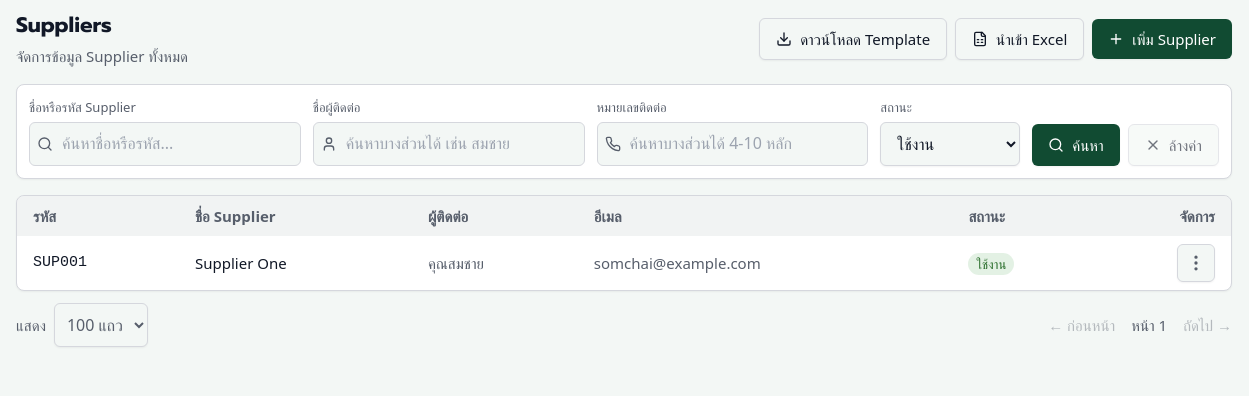
Test: Suppliers — contact and status filters (round 8-20D) › rejects a 3-digit fragment with a generic Thai message and sends nothing
Expected: the text "SUP001" is shown, [17, 236, 179, 290]
Type "555" into the field labelled "หมายเลขติดต่อ".
click(732, 144); type("555")  # box [597, 122, 868, 166]
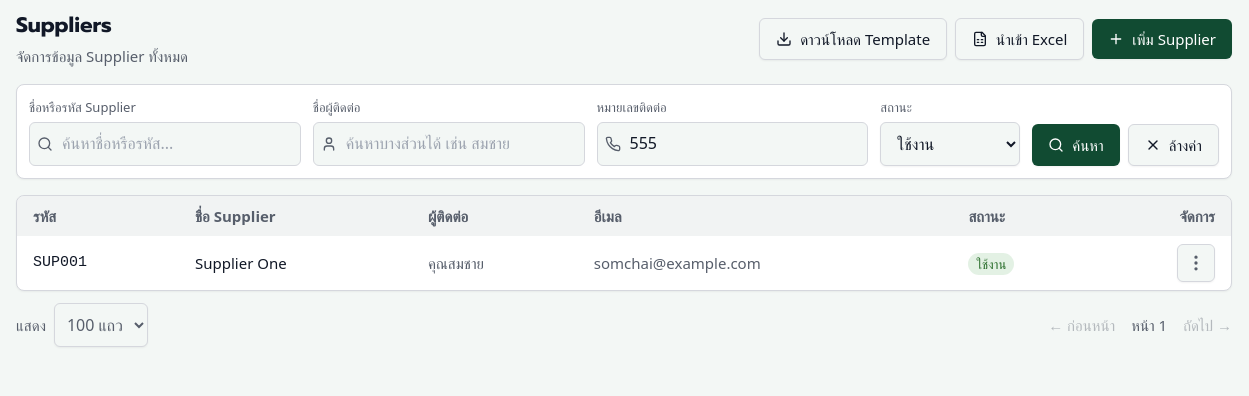
Click the button "ค้นหา".
click(1076, 145)  # box [1032, 124, 1120, 166]
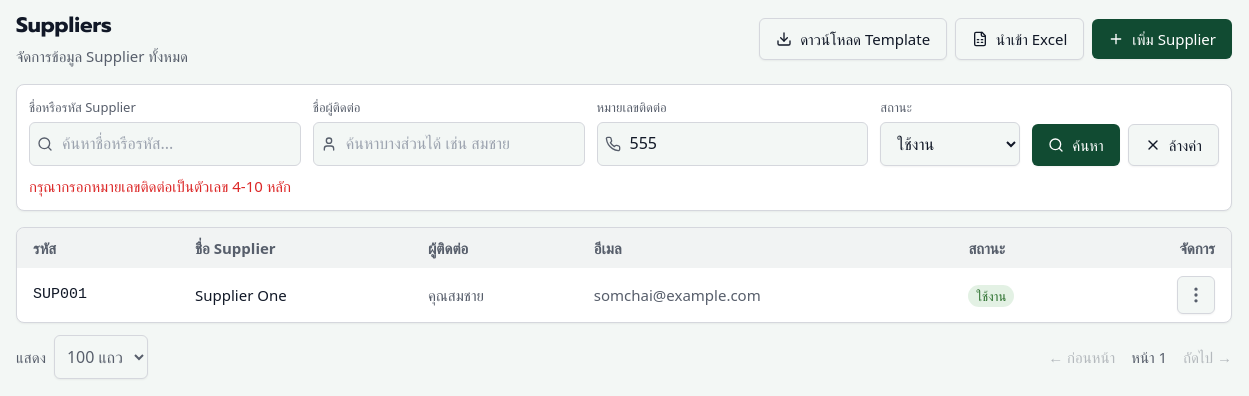
Expected: the message does not show "555"
Now the message shows "4-10 หลัก", box [29, 176, 291, 196]
